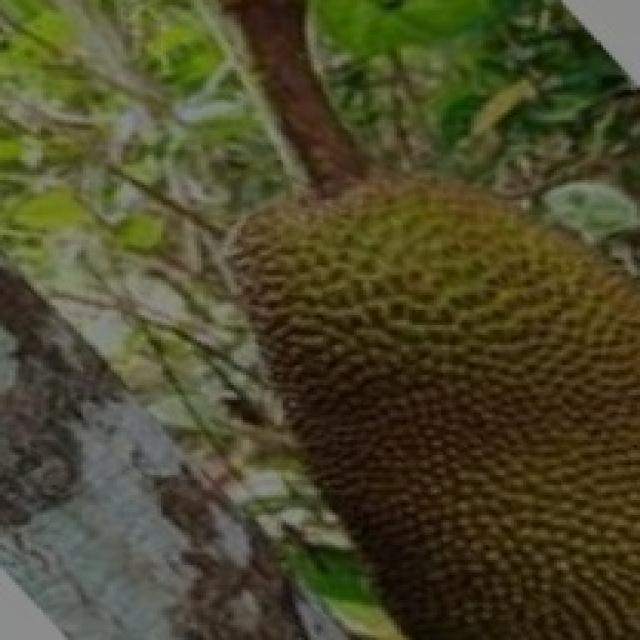Fruit: (252, 270, 637, 640)
